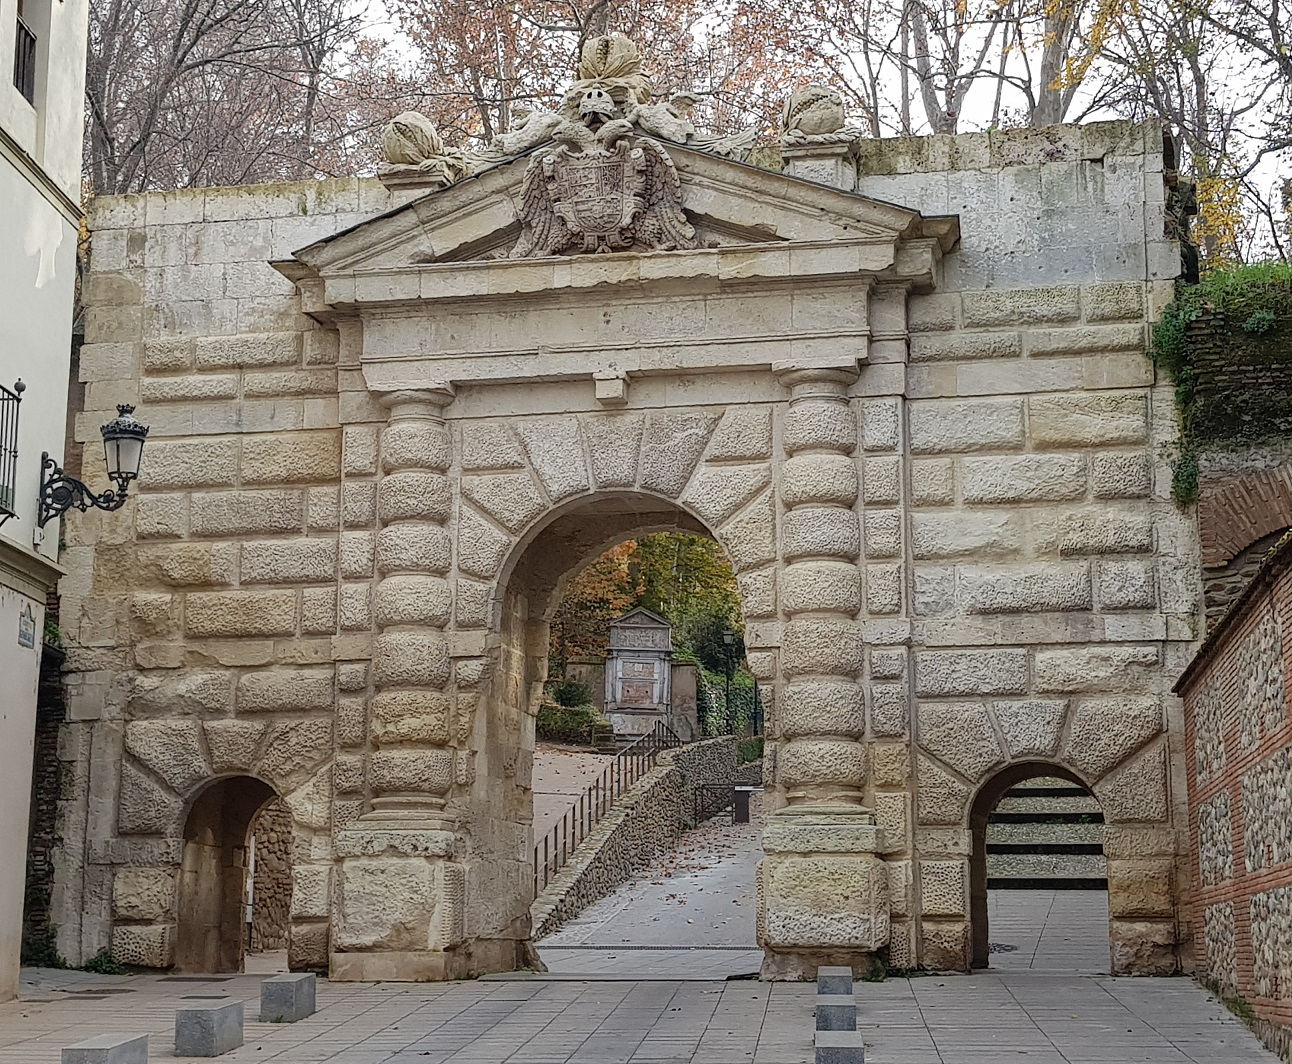arco-medio-punto: (478, 476, 760, 667), (957, 751, 1116, 870), (171, 768, 300, 869)
fronton: (287, 131, 927, 302)
